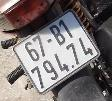1: (57, 17, 77, 41)
4: (50, 51, 72, 76), (76, 35, 95, 58)
6: (22, 39, 43, 64)
7: (30, 32, 52, 59), (63, 41, 85, 67), (29, 64, 50, 91)
9: (40, 58, 60, 83)
B: (47, 23, 69, 48)
